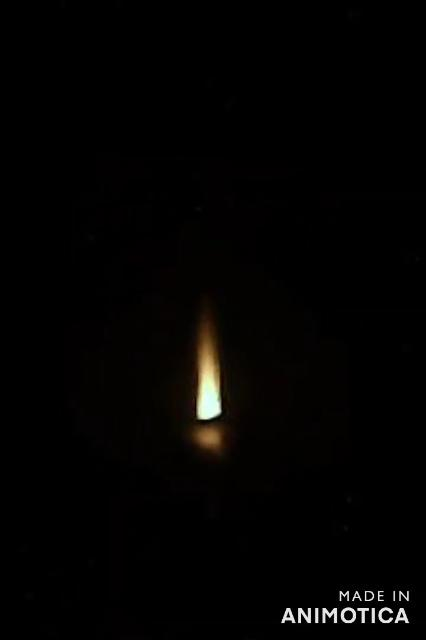burner flame: (194, 320, 226, 422)
